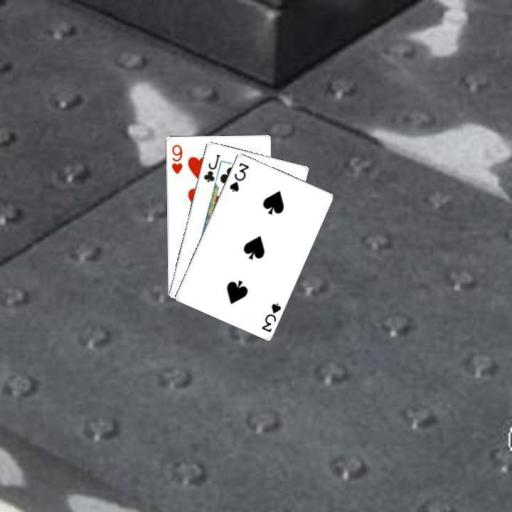card-corner: (226, 159, 250, 193), (258, 300, 282, 334), (201, 151, 221, 183), (168, 141, 183, 175)
